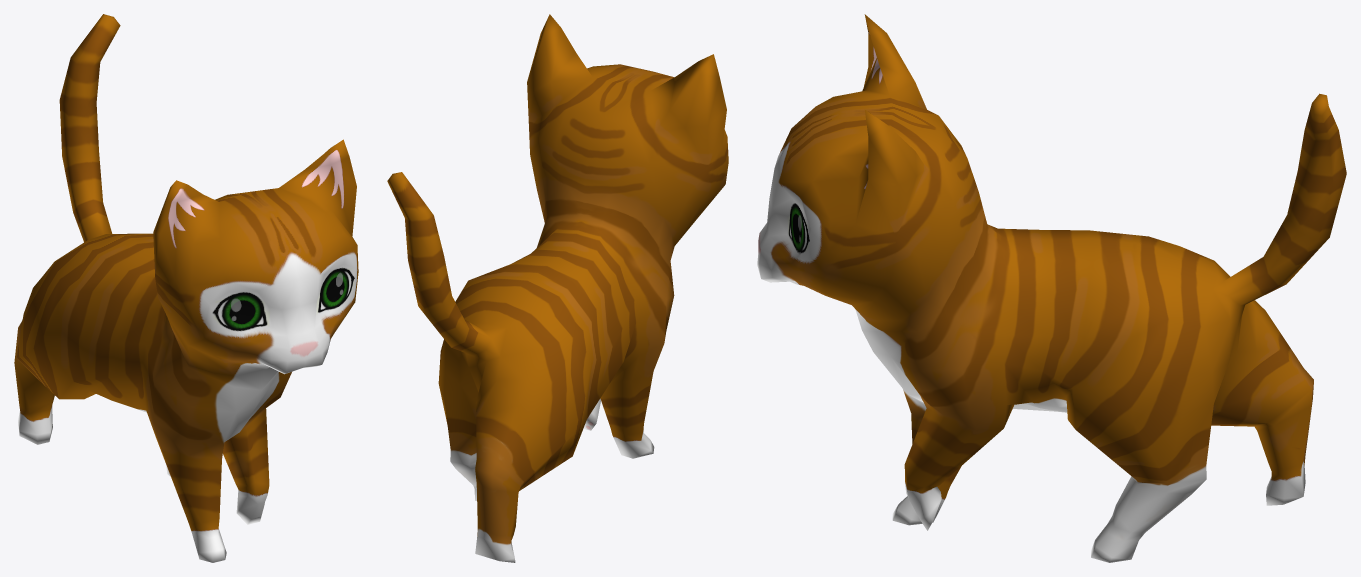
The model's file is cat1.fbx.
The picture shows the model from 3 angles, left to right: view 1: azimuth 30°, elevation 25°; view 2: azimuth 150°, elevation 25°; view 3: azimuth 270°, elevation 25°; orthographic projection. The views are drawn at different scales.
Parts seen in each view (by area): view 1: cat; view 2: cat; view 3: cat.
Boxes of the visible parts, x1,y1,x2,y2 form: cat: (14,14,358,562); cat: (387,14,728,562); cat: (757,14,1346,562).
Size of the model in its own units: 9.56 by 18.69 by 21.16.
